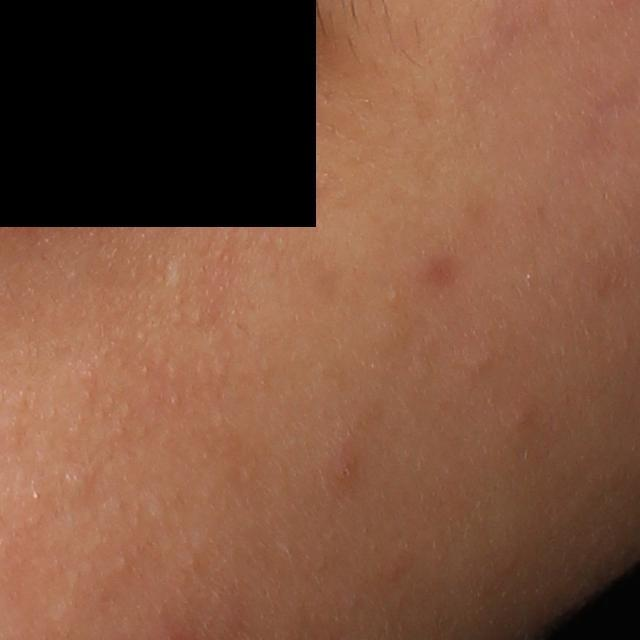comedo: (59, 459, 96, 495), (509, 401, 539, 433), (465, 349, 490, 373), (383, 286, 403, 309)
